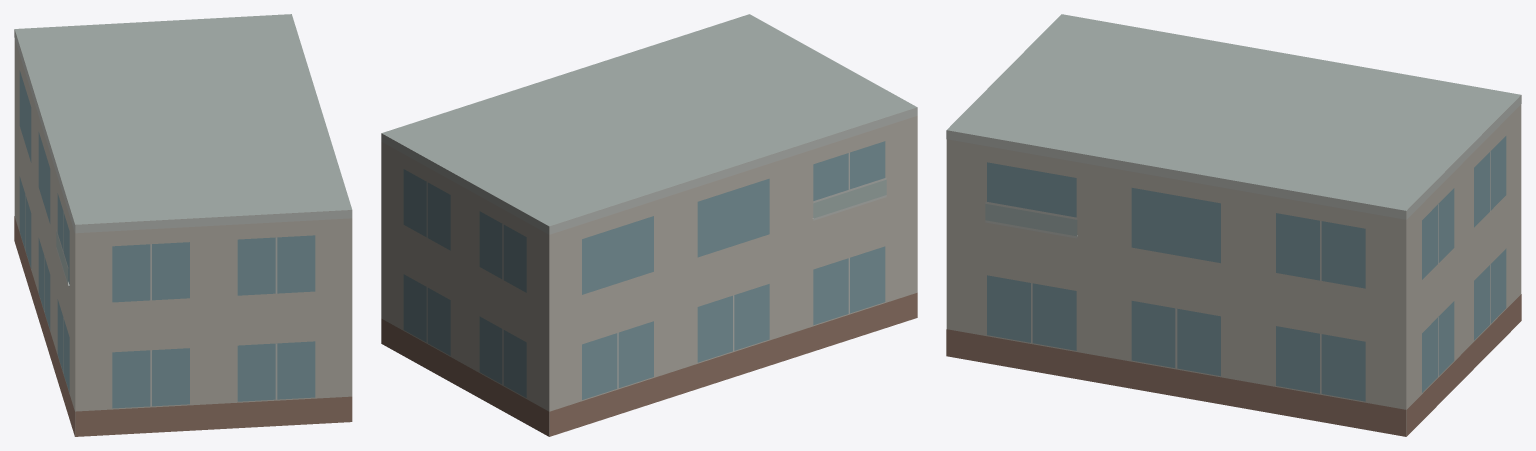
The model's file is survey-upis-32719618.glb.
3 renders of one model, left to right at view 1: azimuth 30°, elevation 25°; view 2: azimuth 150°, elevation 25°; view 3: azimuth 270°, elevation 25°, orthographic. The views are drawn at different scales.
Visible parts, largest first — view 1: survey-upis-32719618.tmp; view 2: survey-upis-32719618.tmp; view 3: survey-upis-32719618.tmp.
Boxes of the visible parts, x1,y1,x2,y2 form: survey-upis-32719618.tmp: (14, 14, 352, 436); survey-upis-32719618.tmp: (381, 14, 917, 436); survey-upis-32719618.tmp: (946, 14, 1521, 436).
Bounding box in the file's own units: 11.4 × 6.1 × 14.08.
